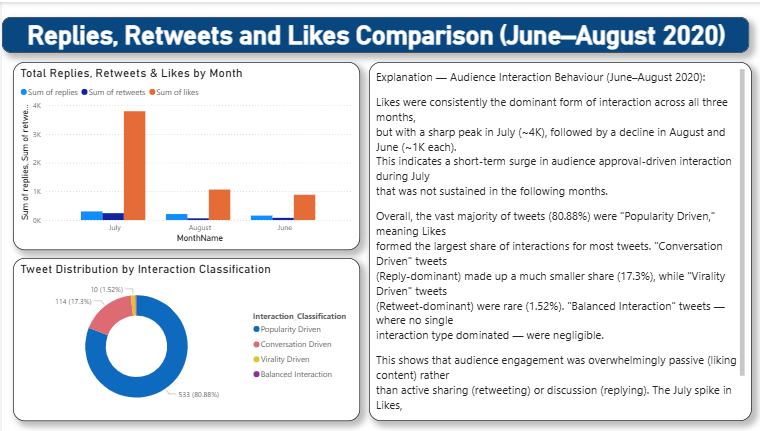

This screenshot's page, from the dashboard's own definition file:
{"tool":"powerbi","page":{"name":"Task- 4","canvas":[1280,720],"ordinal":3},"visuals":[{"type":"clusteredColumnChart","title":"Total Replies, Retweets & Likes by Month","fields":{"Category":["SocialMedia (1).MonthName"],"Y":["Sum(SocialMedia (1).replies)","Sum(SocialMedia (1).retweets)","Sum(SocialMedia (1).likes)"]},"box":[18.5,100.8,582.9,315.8],"z":0},{"type":"donutChart","title":"Tweet Distribution by Interaction Classification","fields":{"Category":["SocialMedia (1).Interaction_Classification"],"Y":["CountNonNull(SocialMedia (1).Tweet)"]},"box":[18.5,430,582.9,273.8],"z":1000},{"type":"textbox","box":[616.5,100.8,643.4,603],"z":2000},{"type":"textbox","title":"Replies, Retweets and Likes Comparison (June–August 2020)","box":[0,25.2,1254.8,60.5],"z":3000}]}

Visuals, with their boxes in screenshot pixels (x1, y1, x2, y2), scaled from the page's 1280x720 canvas onto the 760x431 screenshot:
"Total Replies, Retweets & Likes by Month" clusteredColumnChart: 11,60,357,249
"Tweet Distribution by Interaction Classification" donutChart: 11,257,357,421
textbox: 366,60,748,421
"Replies, Retweets and Likes Comparison (June–August 2020)" textbox: 0,15,745,51
